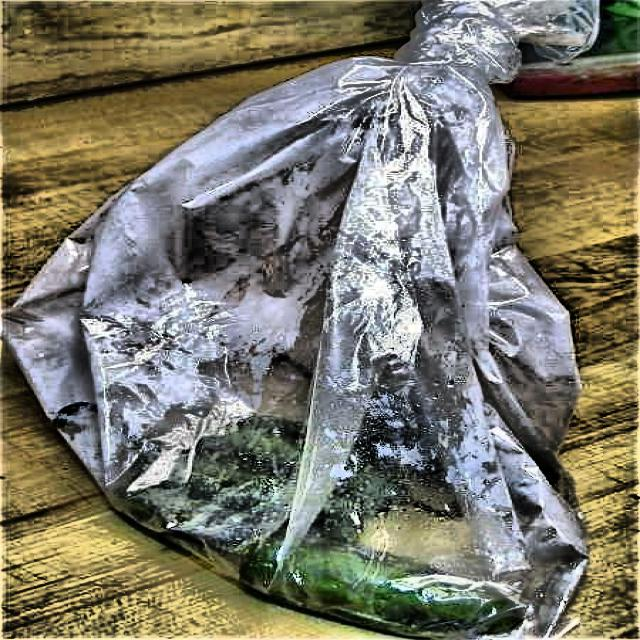Plastic: (1, 19, 640, 636)
